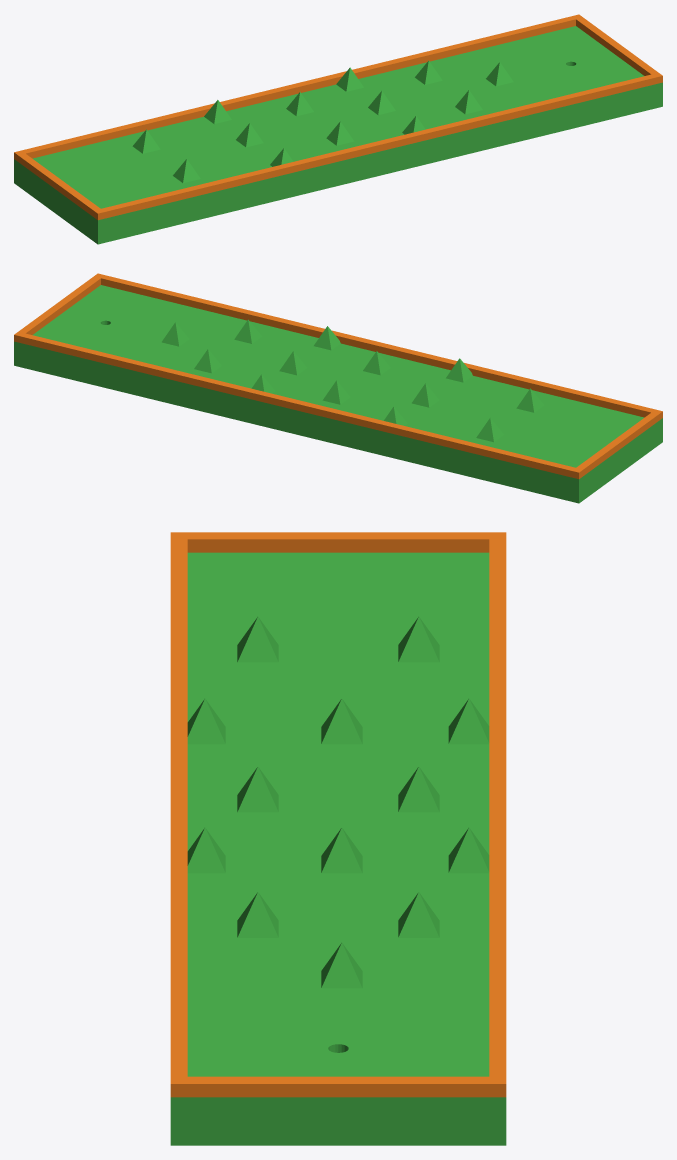
File: tinker.obj
3 renders of one model, top to bottom at view 1: azimuth 30°, elevation 25°; view 2: azimuth 150°, elevation 25°; view 3: azimuth 270°, elevation 25°, orthographic. The views are drawn at different scales.
Visible parts, largest first — view 1: group_0_4634441, group_0_16089887; view 2: group_0_4634441, group_0_16089887; view 3: group_0_4634441, group_0_16089887.
Part boxes in pixels (bbox=[...]): group_0_4634441: bbox=[14, 26, 662, 244]; group_0_16089887: bbox=[14, 14, 662, 220]; group_0_4634441: bbox=[14, 285, 662, 503]; group_0_16089887: bbox=[14, 273, 662, 479]; group_0_4634441: bbox=[170, 552, 506, 1145]; group_0_16089887: bbox=[170, 532, 506, 1097].
Bounding box in the file's own units: 158 × 11.48 × 40.67.
